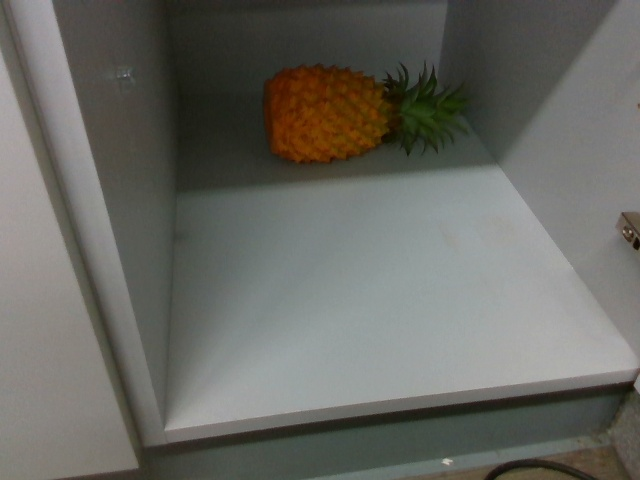pineapple: (266, 61, 466, 163)
